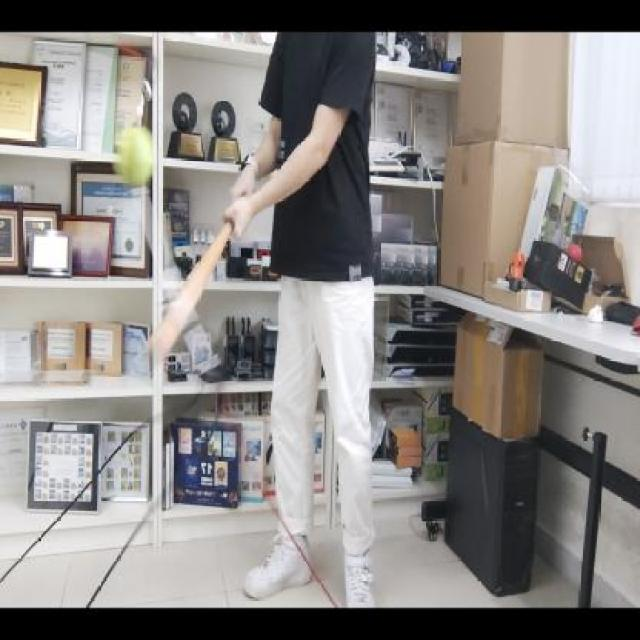baseball: (112, 128, 156, 183)
